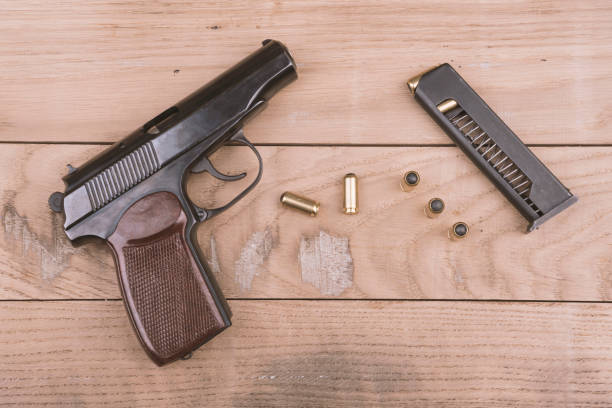gun: (58, 37, 297, 367)
